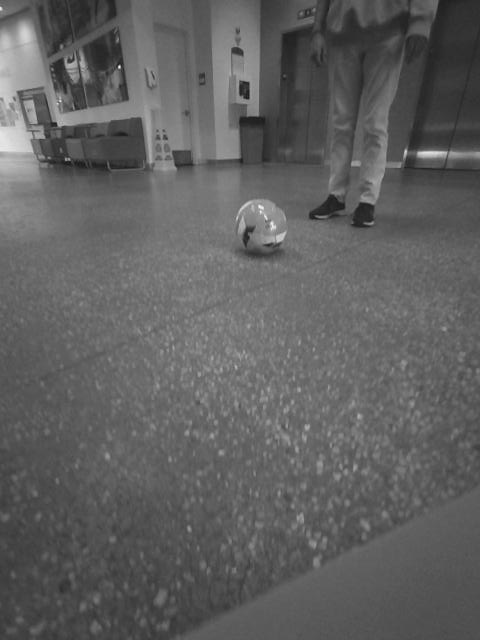ball: (30, 270, 138, 388)
